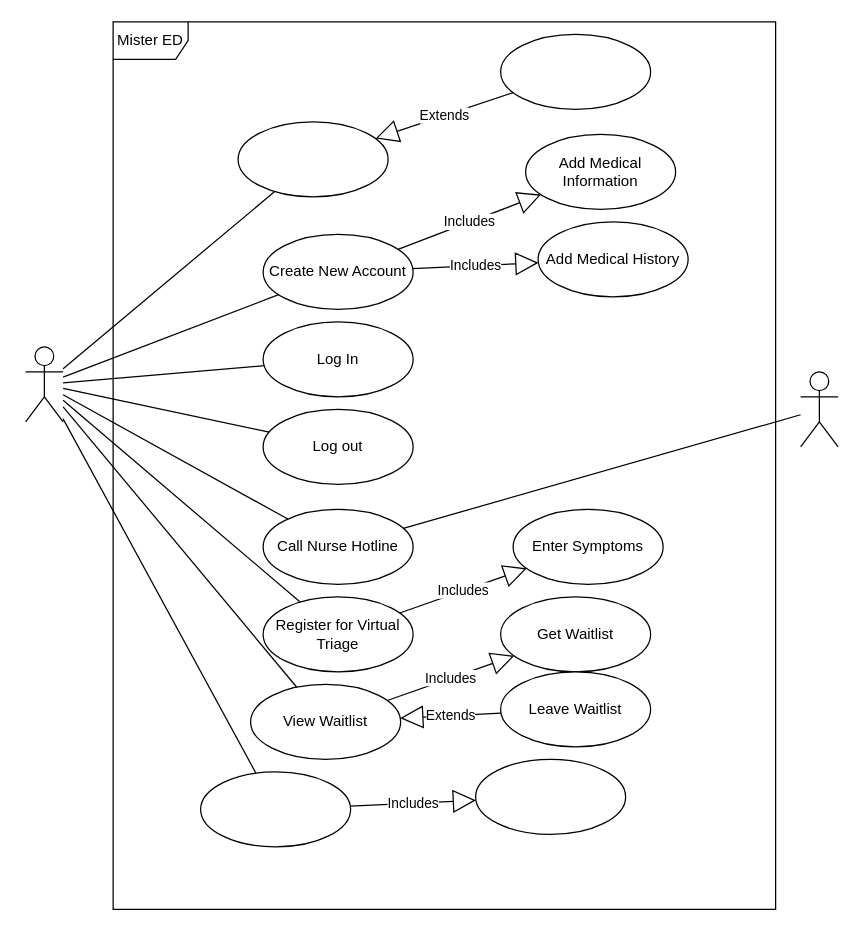
Image size: 861x931. Some labels were removed from this diagram. The centre of each missing label's shape, as x and y in pixels:
Get Virtual Triage Response: point (550, 796)
Nurse: point (818, 409)
Patient: point (43, 384)
View Hospital Waitimes: point (575, 71)
View Nearby Hospitals: point (312, 159)
View Virtual Triage Response: point (275, 809)
